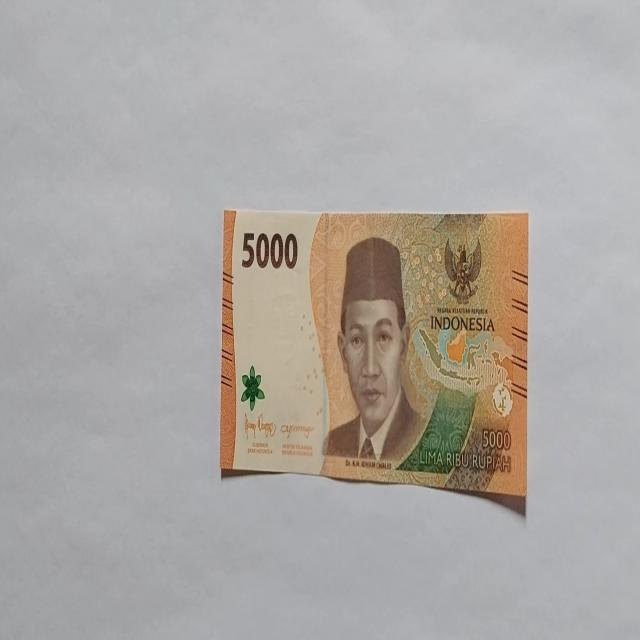lima ribu rupiah: (218, 210, 531, 517), (320, 234, 426, 466)
